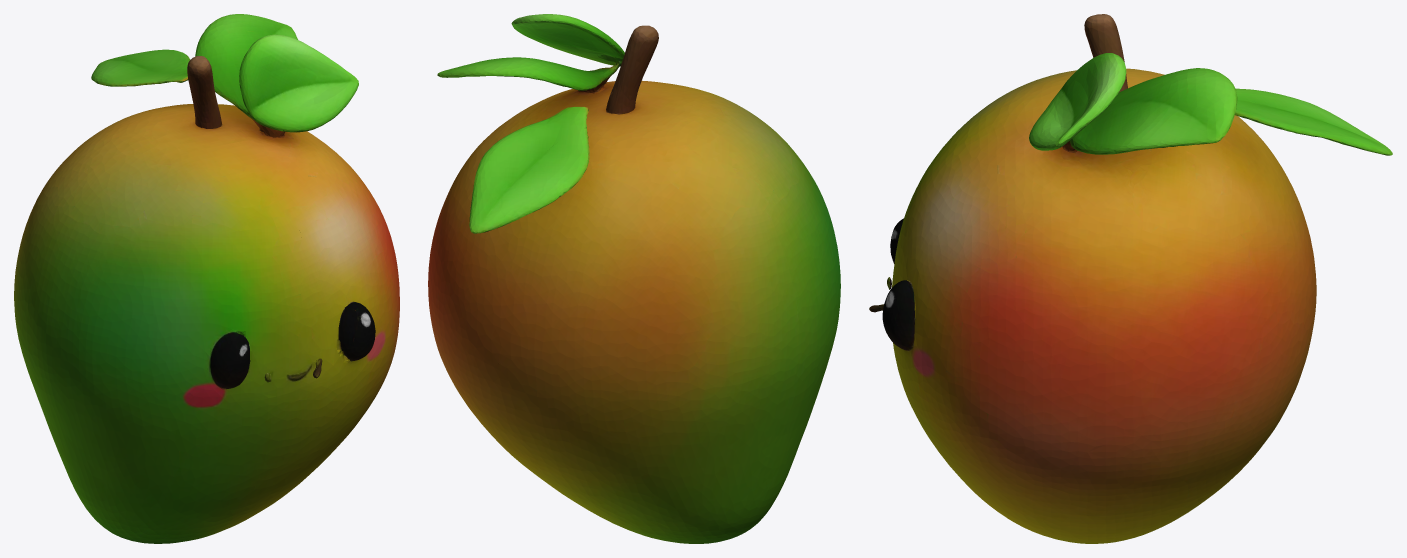
Rendered from mango.glb.
3 views of the same model, side by side, from view 1: azimuth 30°, elevation 25°; view 2: azimuth 150°, elevation 25°; view 3: azimuth 270°, elevation 25° (orthographic). The views are drawn at different scales.
Parts seen in each view (by area): view 1: geometry_0; view 2: geometry_0; view 3: geometry_0.
Boxes of the visible parts, x1,y1,x2,y2 form: geometry_0: (14,14,399,543); geometry_0: (428,14,840,543); geometry_0: (869,14,1392,543).
Bounding box in the file's own units: 0.7638 × 0.9998 × 0.9011.
1 material, 1 textured.
